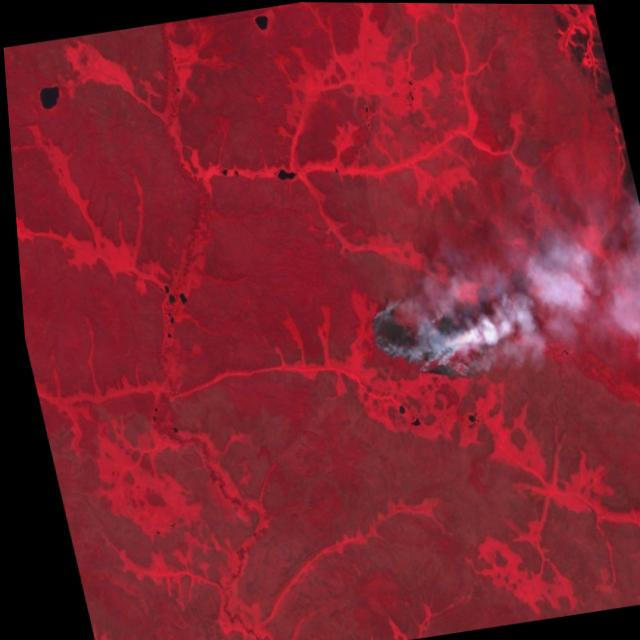fire: (355, 283, 479, 393)
